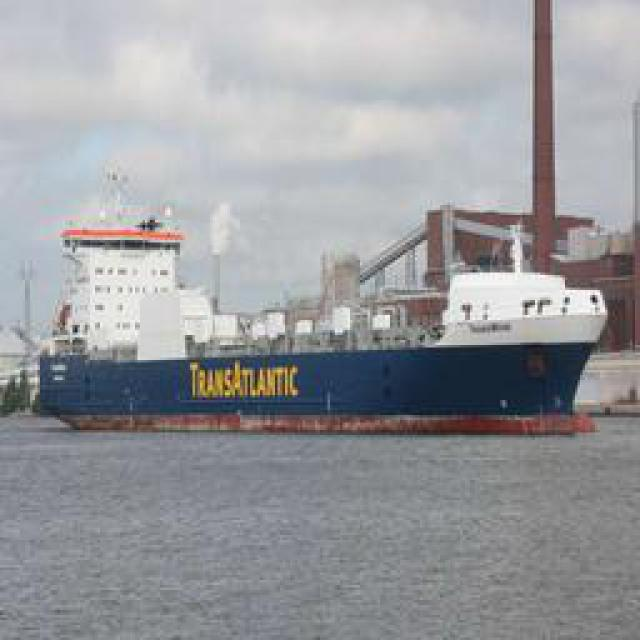Ship: (43, 206, 601, 429)
